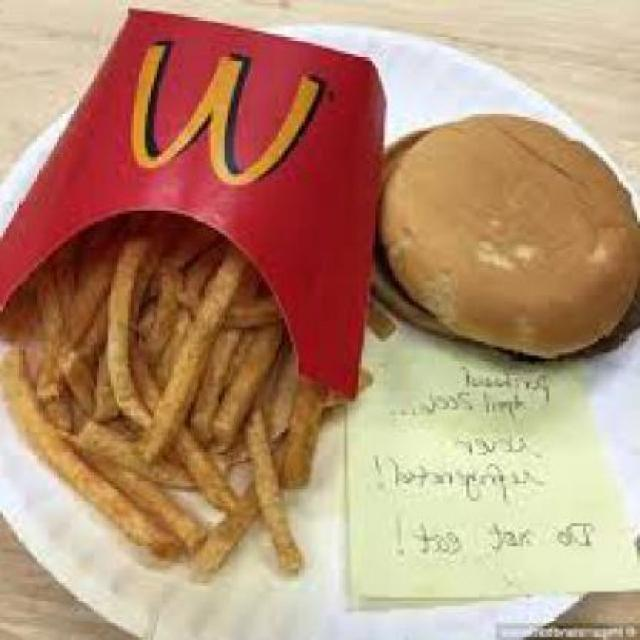french fries: (2, 59, 370, 581)
